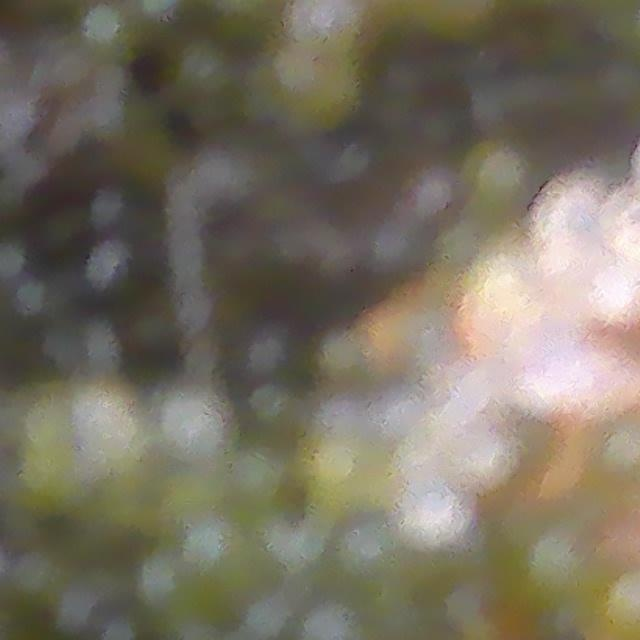SeaGrape: (525, 174, 603, 262), (405, 479, 477, 544), (463, 413, 523, 483), (593, 261, 640, 326)
